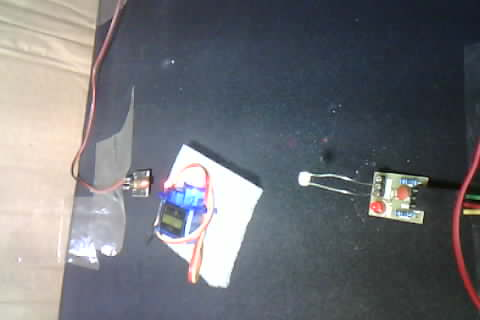motor: (145, 146, 252, 292)
